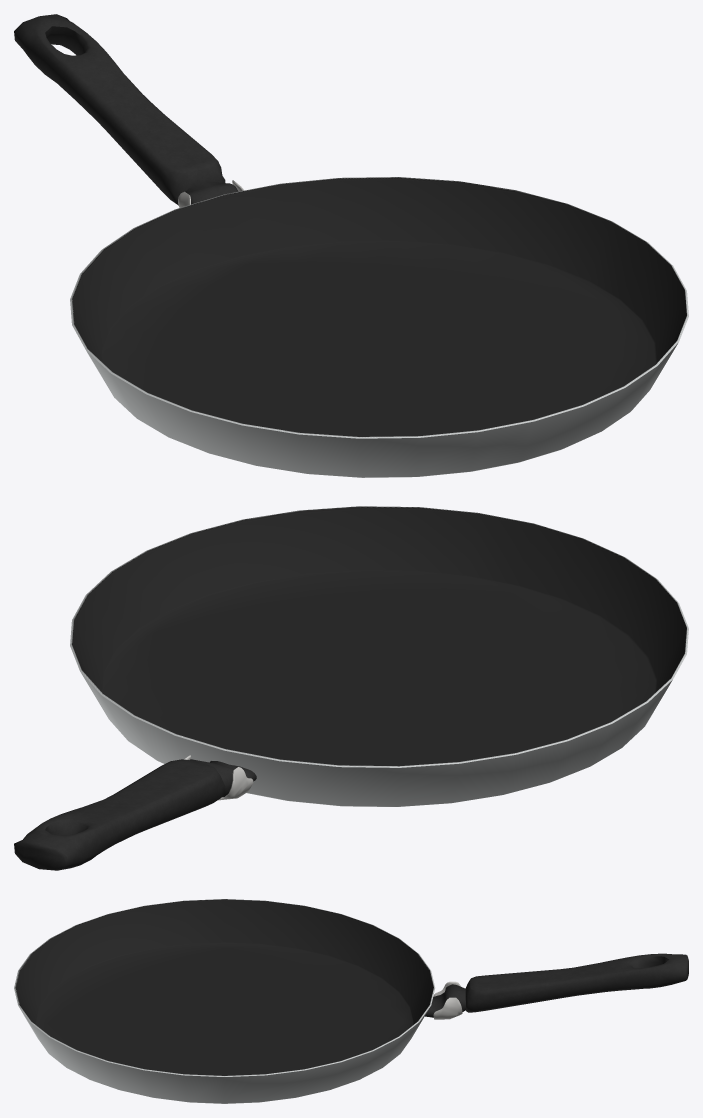
The model's file is pancake-pan.glb.
3 renders of one model, top to bottom at view 1: azimuth 30°, elevation 25°; view 2: azimuth 150°, elevation 25°; view 3: azimuth 270°, elevation 25°, orthographic. The views are drawn at different scales.
Visible parts, largest first — view 1: Circle; view 2: Circle; view 3: Circle.
Boxes of the visible parts, x1=… form: Circle: x1=14, y1=14, x2=688, y2=477; Circle: x1=14, y1=506, x2=688, y2=870; Circle: x1=14, y1=899, x2=688, y2=1103.
Bounding box in the file's own units: 0.2442 × 0.0422 × 0.3913.
Materials: 1 (1 with a texture image).
